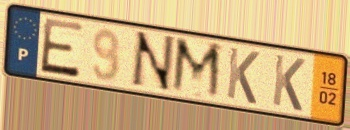9: (90, 26, 125, 84)
E: (38, 16, 86, 81)
K: (224, 45, 262, 107), (270, 52, 307, 114)
M: (168, 35, 225, 104)
N: (127, 29, 178, 95)
